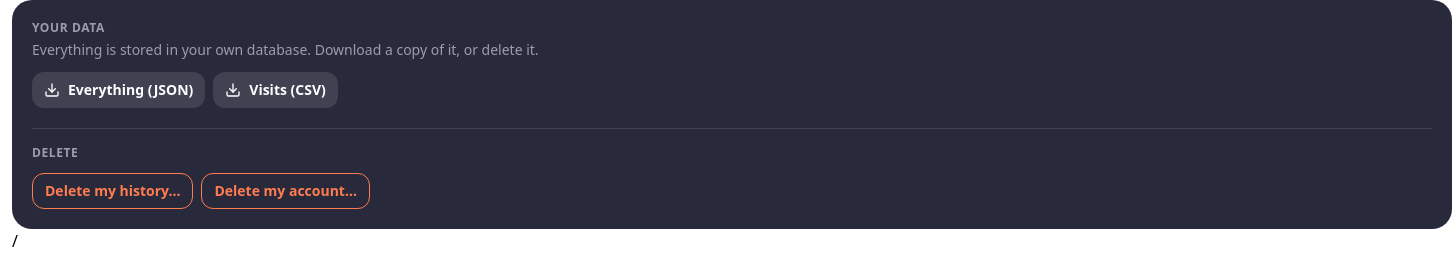
Scenario: downloading your data › shows that it is working and does not start a second download meanwhile
The width and height of the screenshot is (1452, 264).
Step 1. Click the button "Visits (CSV)" → (276, 90), box [213, 72, 338, 108]
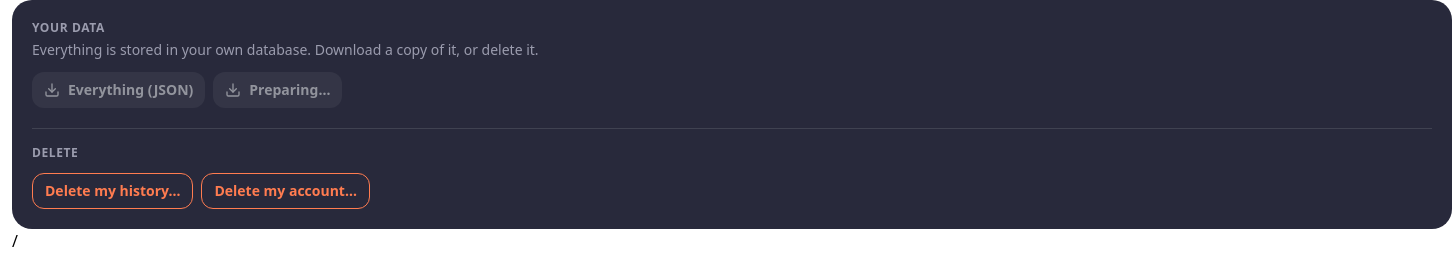
Expected: the button "Preparing…" is shown, [213, 72, 342, 108]
Expected: the button "Everything (JSON)" is disabled, [32, 72, 205, 108]
